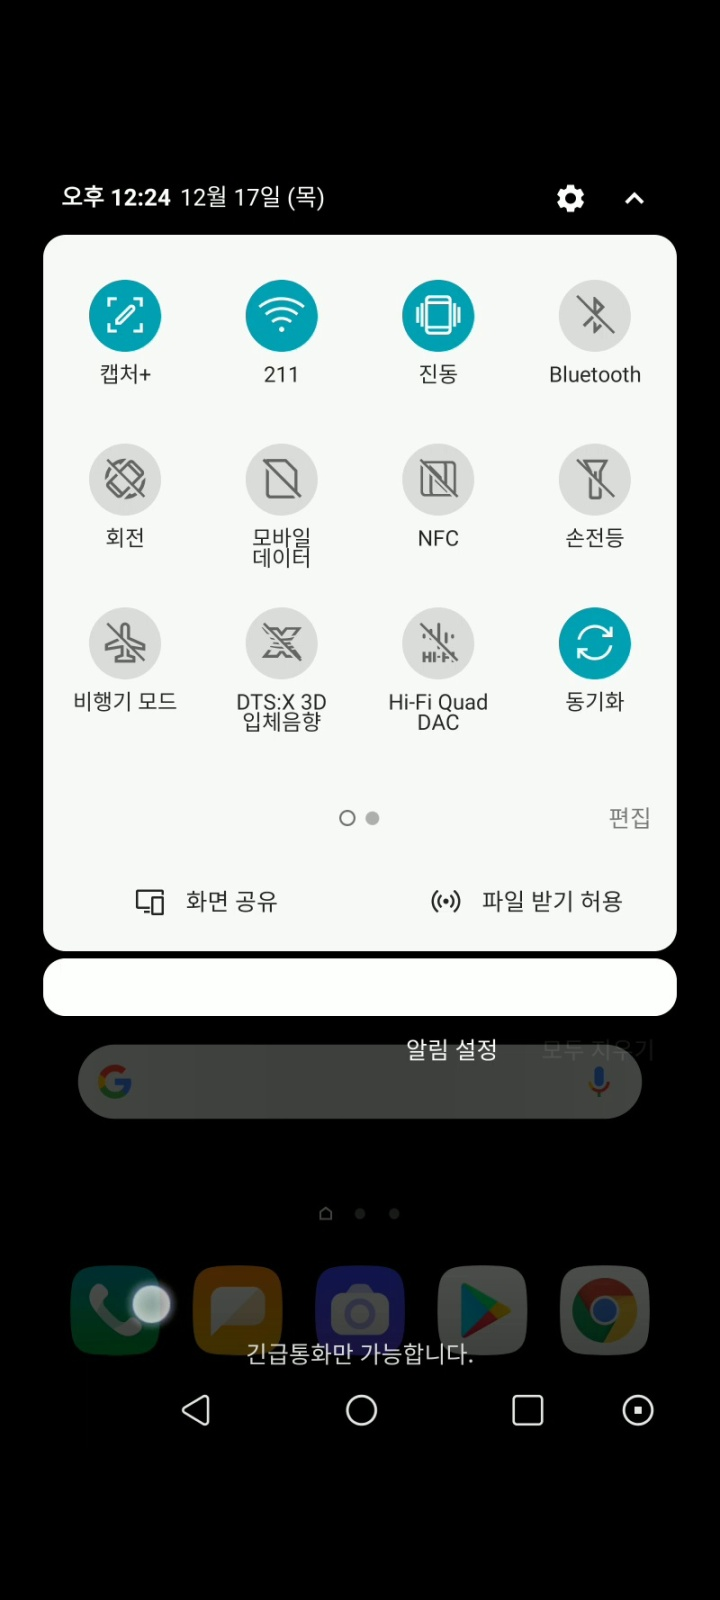Cursor: (130, 1282, 175, 1327)
